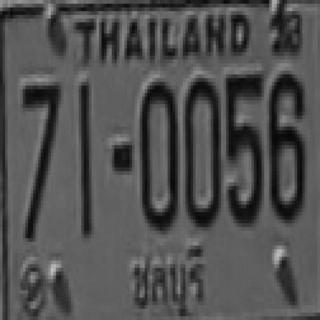N00: (138, 78, 176, 227), (183, 76, 218, 225)
N01: (79, 82, 91, 231), (79, 82, 91, 220)
N05: (224, 71, 262, 223)
N06: (267, 71, 302, 219)
N07: (20, 82, 58, 234), (20, 82, 58, 212), (20, 82, 58, 186)
P13: (123, 240, 214, 320)
